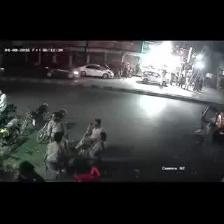person: (45, 133, 67, 174), (76, 119, 105, 149), (17, 161, 44, 182), (47, 112, 66, 141), (0, 91, 6, 114), (179, 75, 185, 87)
